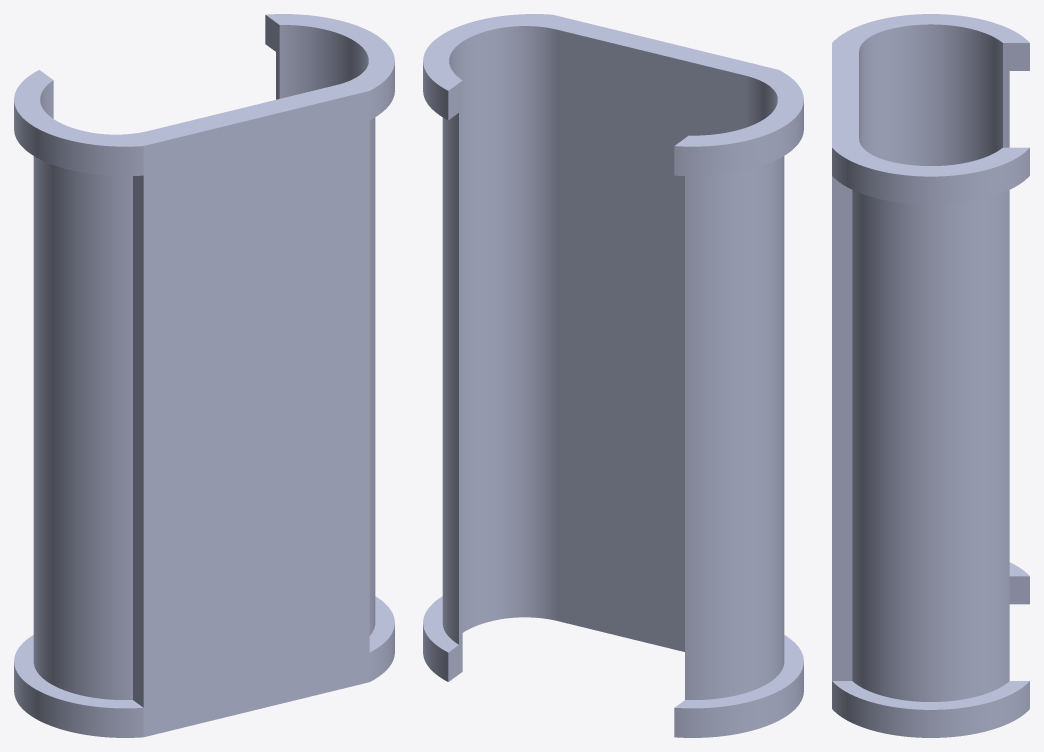
Rendered from Tube grand.FBX.
The picture shows the model from 3 angles, left to right: view 1: azimuth 30°, elevation 25°; view 2: azimuth 150°, elevation 25°; view 3: azimuth 270°, elevation 25°; orthographic projection. The views are drawn at different scales.
Visible parts, largest first — view 1: Congé3; view 2: Congé3; view 3: Congé3.
Boxes of the visible parts, box(x1,y1,x2,y2) form: Congé3: box(14, 14, 394, 737); Congé3: box(423, 14, 803, 737); Congé3: box(832, 14, 1029, 737).
Size of the model in its own units: 2.45 by 3.94 by 1.26.
